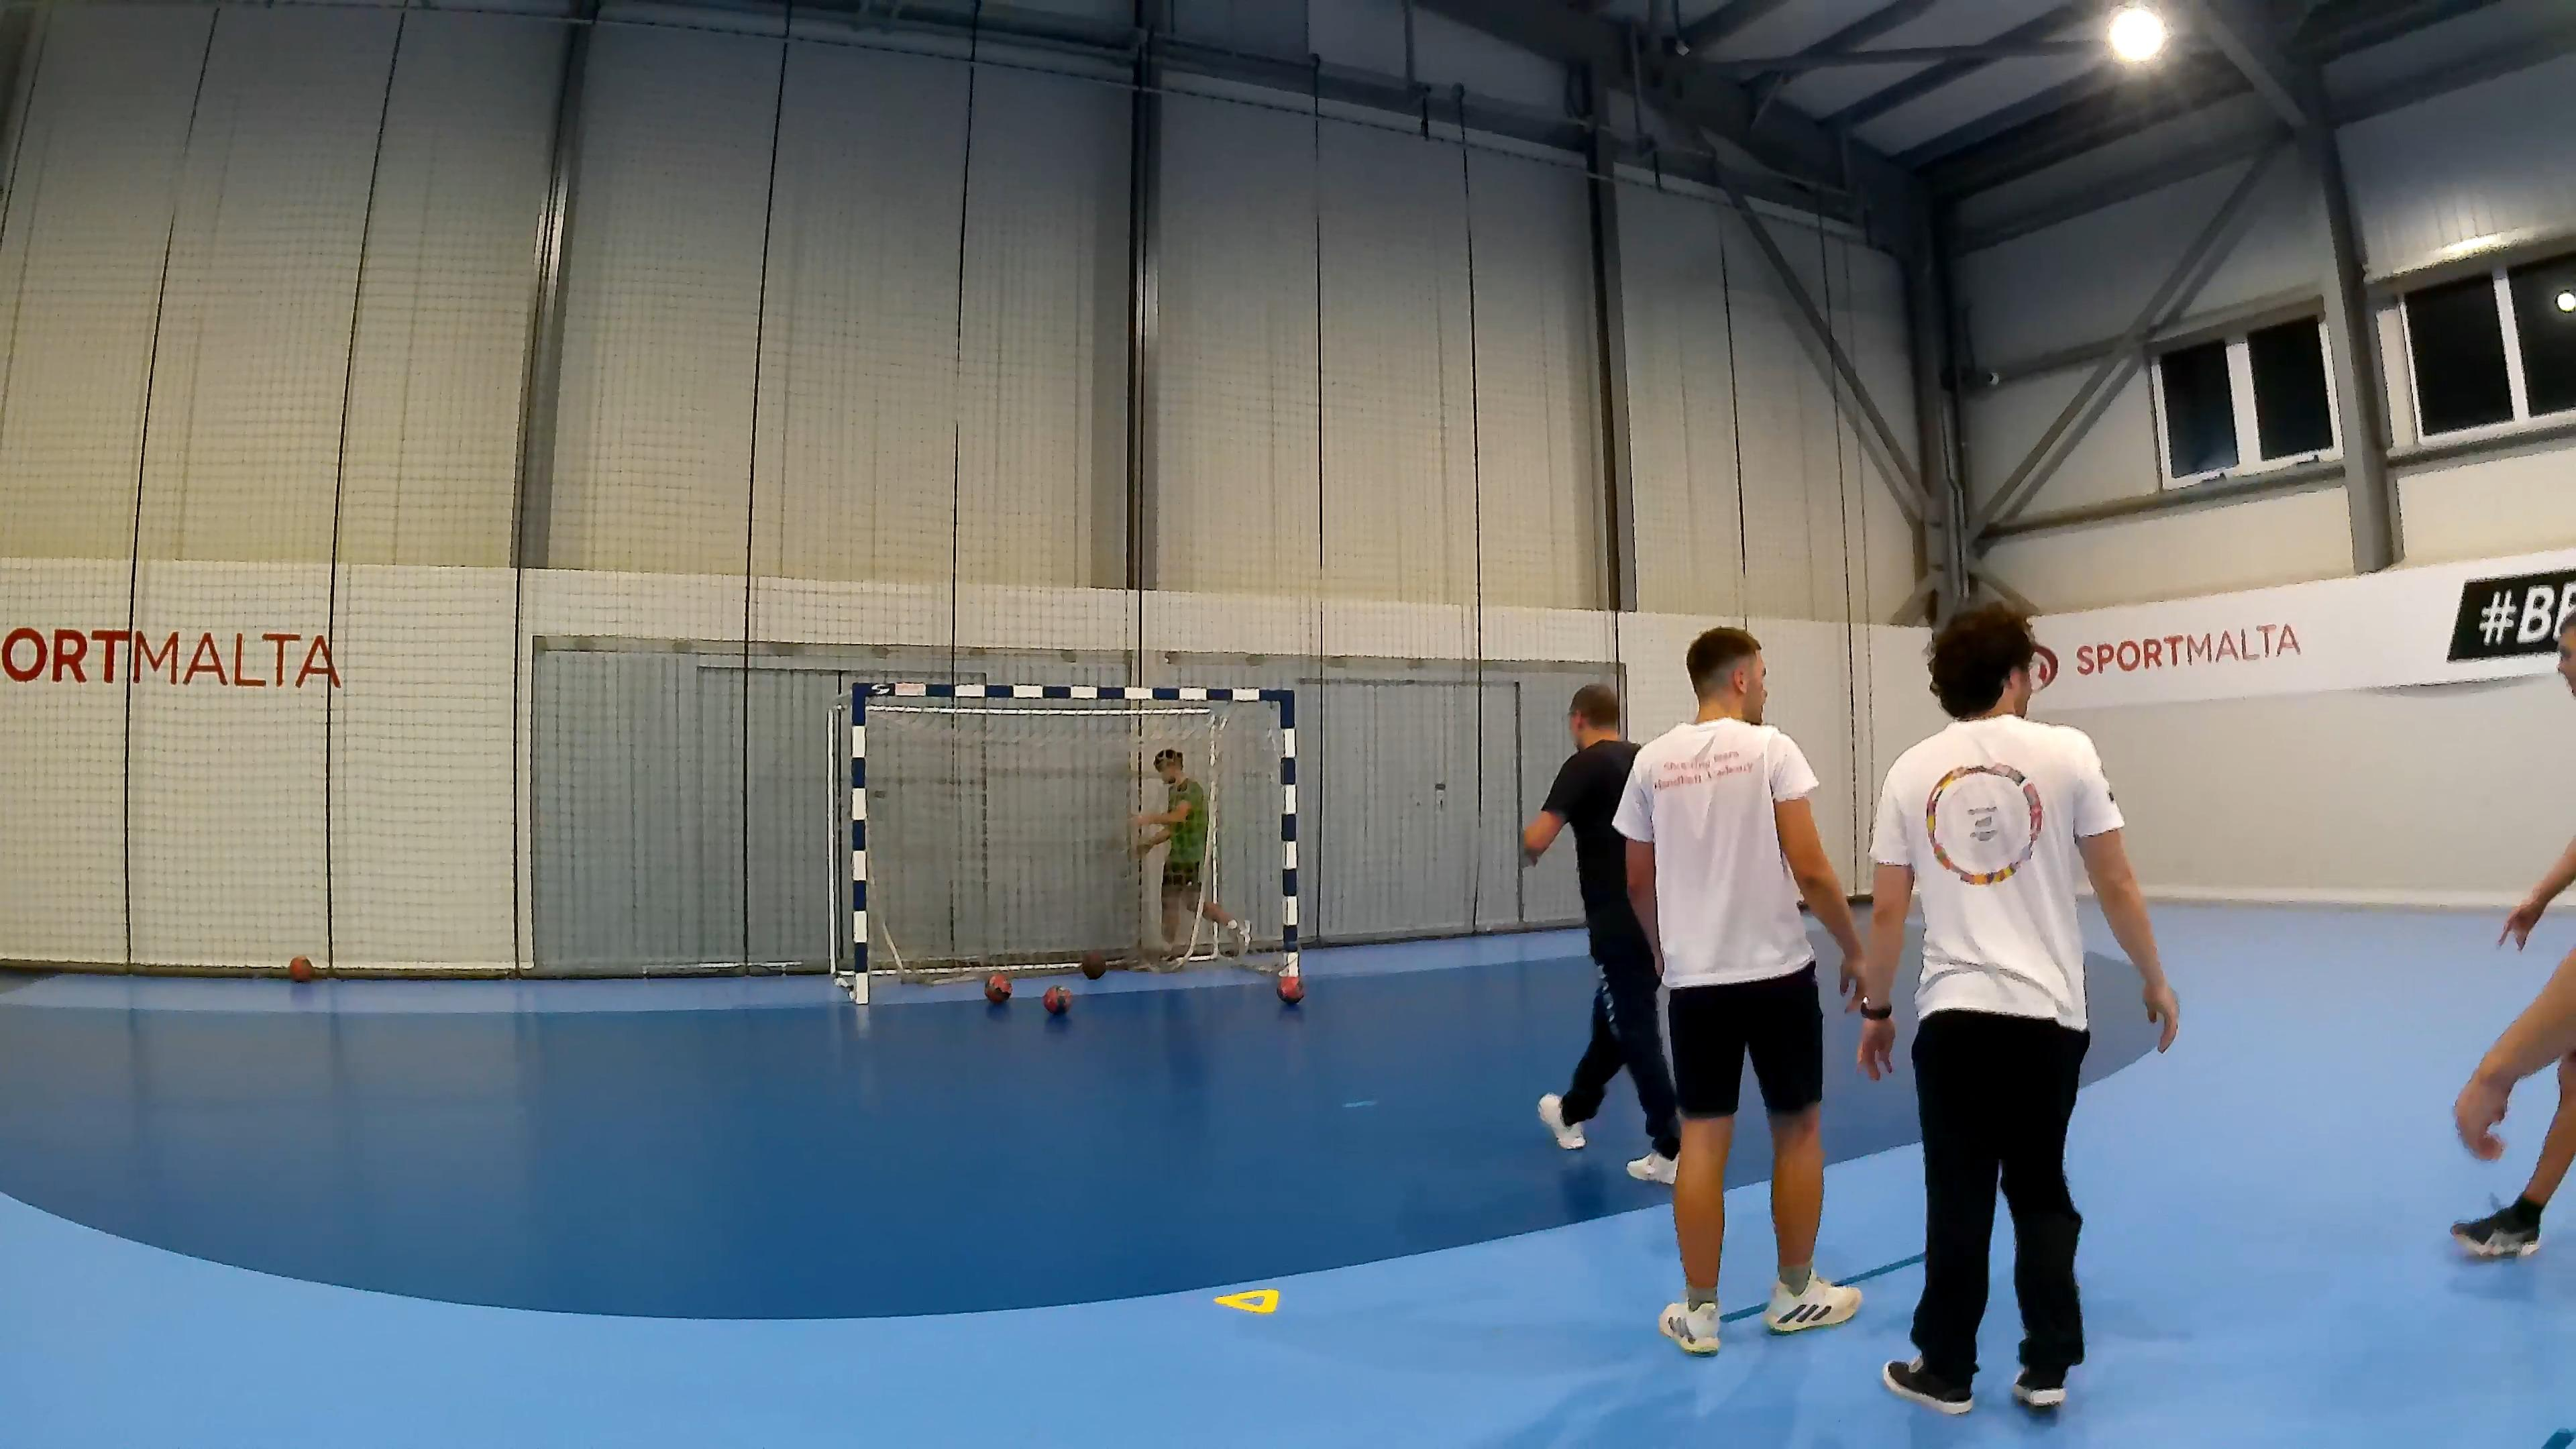handball: (1042, 984, 1072, 1014), (984, 971, 1012, 1003), (294, 947, 313, 993), (1079, 948, 1104, 978)
